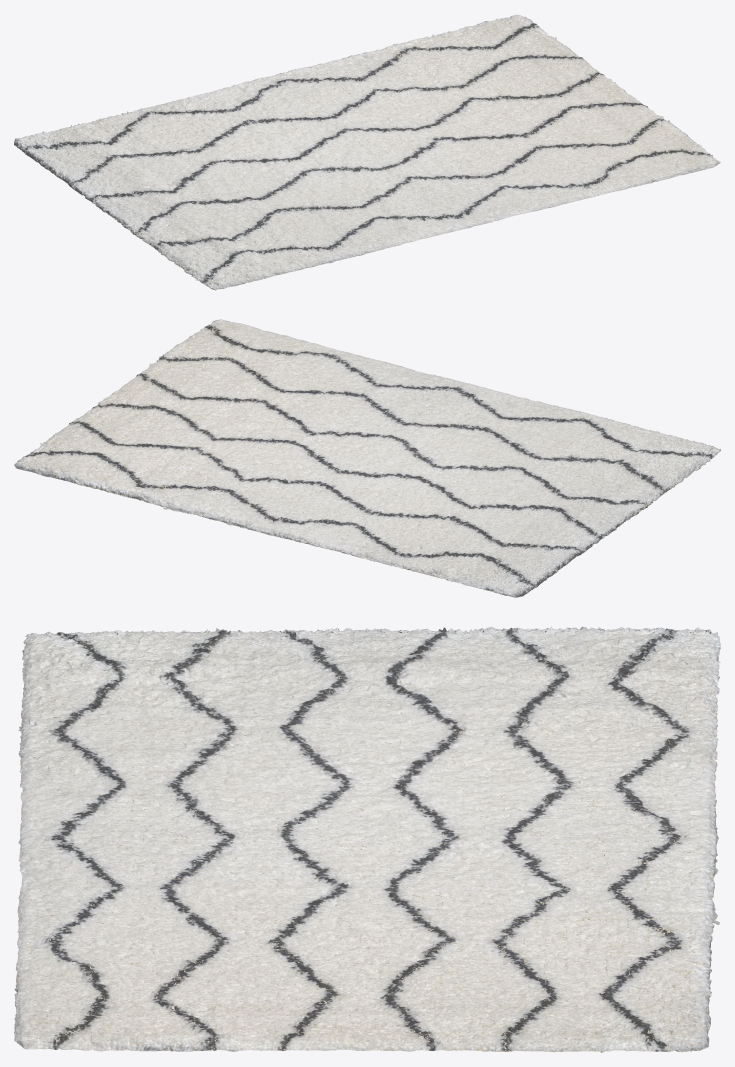
The model's file is rug-1k.glb.
3 renders of one model, top to bottom at view 1: azimuth 30°, elevation 25°; view 2: azimuth 150°, elevation 25°; view 3: azimuth 270°, elevation 25°, orthographic. The views are drawn at different scales.
Parts seen in each view (by area): view 1: Ojai Rug Top, Ojai Rug Bottom; view 2: Ojai Rug Top, Ojai Rug Bottom; view 3: Ojai Rug Top, Ojai Rug Bottom.
Boxes of the visible parts, <box> form: Ojai Rug Top: <box>14,14,720,290</box>; Ojai Rug Bottom: <box>15,18,720,289</box>; Ojai Rug Top: <box>14,319,720,597</box>; Ojai Rug Bottom: <box>14,321,720,597</box>; Ojai Rug Top: <box>14,626,720,1052</box>; Ojai Rug Bottom: <box>14,632,720,1052</box>.
Bounding box in the file's own units: 2.28 × 0.0464 × 1.59.
2 materials, 2 textured.
